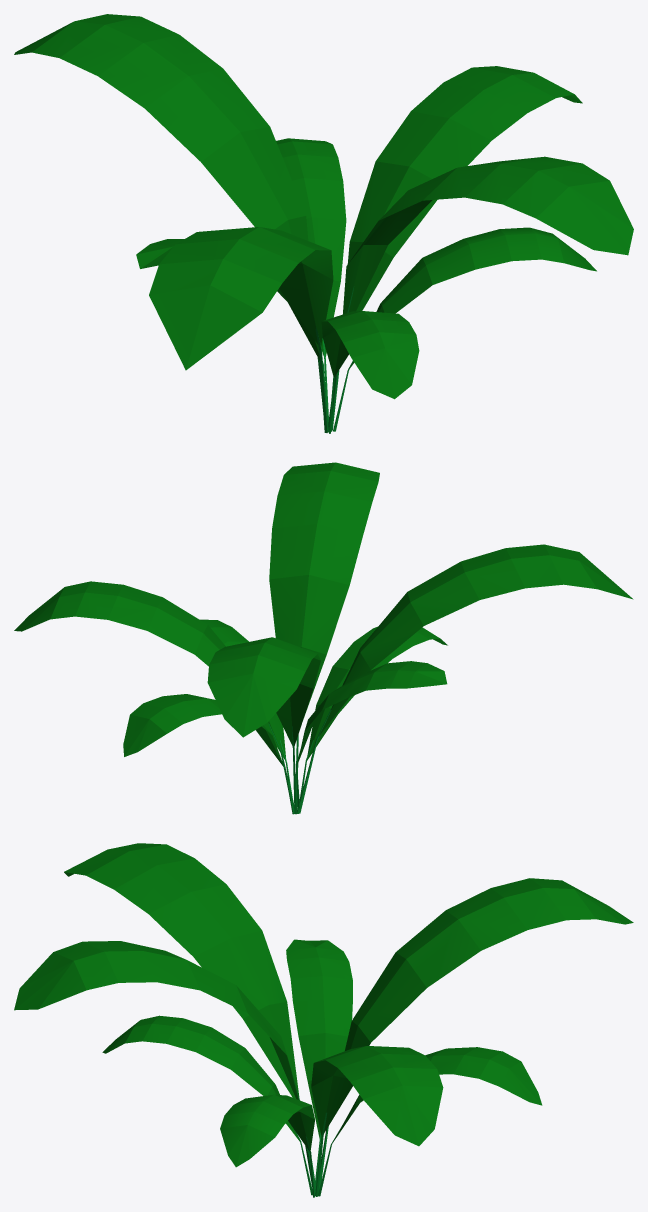
File: Fern-01-B.fbx
The picture shows the model from 3 angles, top to bottom: view 1: azimuth 30°, elevation 25°; view 2: azimuth 150°, elevation 25°; view 3: azimuth 270°, elevation 25°; orthographic projection. The views are drawn at different scales.
Visible parts, largest first — view 1: Fern-01; view 2: Fern-01; view 3: Fern-01.
Boxes of the visible parts, <box> form: Fern-01: <box>14,14,633,433</box>; Fern-01: <box>14,462,633,814</box>; Fern-01: <box>14,843,633,1197</box>.
Size of the model in its own units: 3.01 by 1.6 by 3.25.
